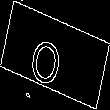O_N: (36, 24, 74, 86)
